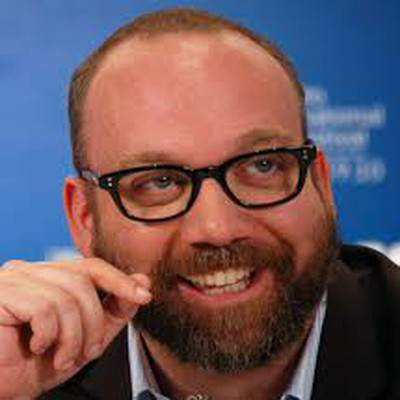eywear: (68, 115, 344, 237)
